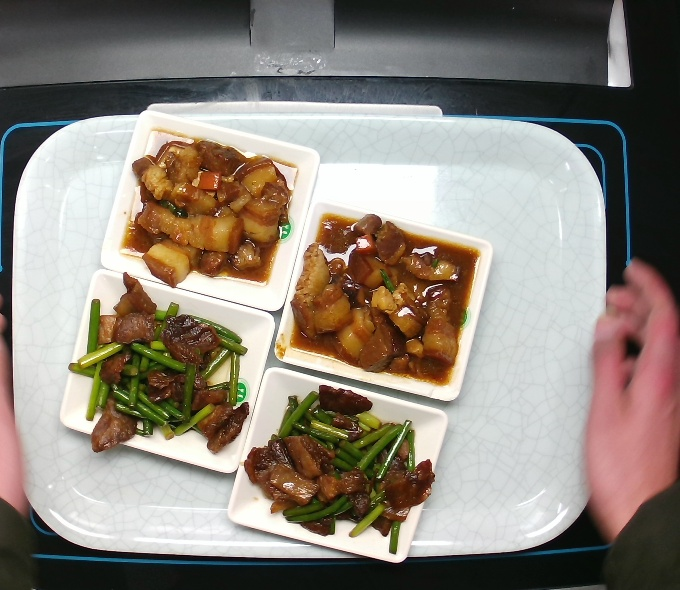wcq-HongShaoRou: (286, 212, 464, 379), (123, 133, 294, 293)
wcq-SuanMiaoChaoRou: (64, 269, 258, 461), (238, 381, 439, 557)
